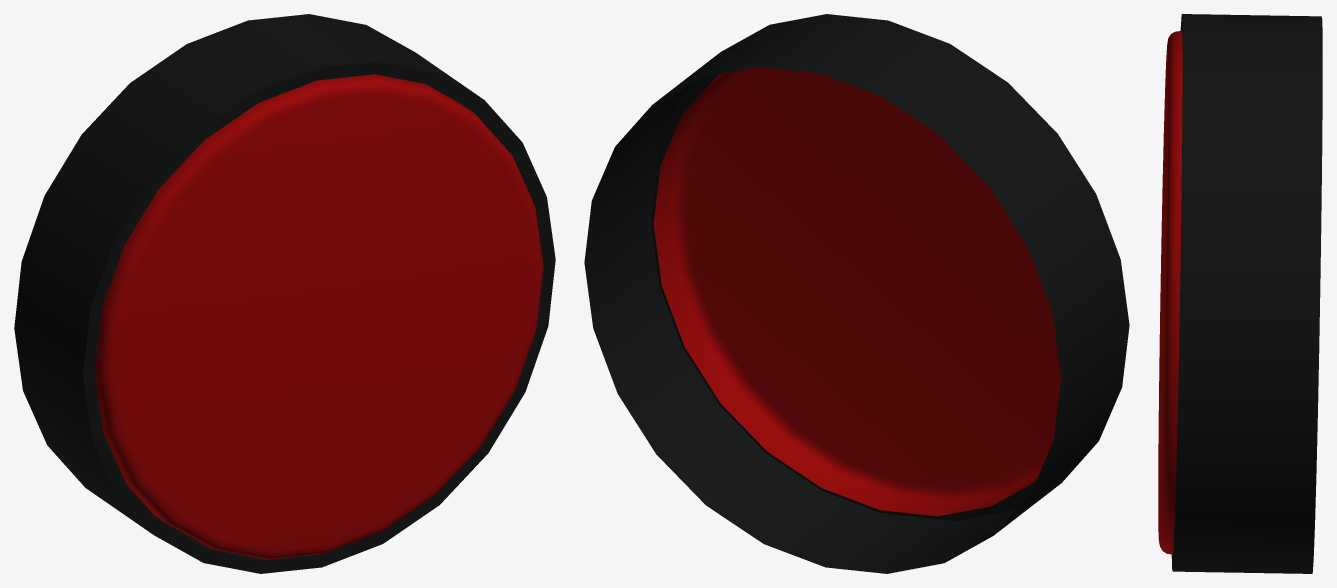
Rendered from Button_02.FBX.
3 renders of one model, left to right at view 1: azimuth 30°, elevation 25°; view 2: azimuth 150°, elevation 25°; view 3: azimuth 270°, elevation 25°, orthographic. The views are drawn at different scales.
Parts seen in each view (by area): view 1: Button_02, Button_02_Case; view 2: Button_02, Button_02_Case; view 3: Button_02_Case, Button_02.
Part boxes in pixels (left/top/right/bottom): Button_02: left=95, top=74, right=543, bottom=559; Button_02_Case: left=14, top=14, right=555, bottom=573; Button_02: left=653, top=67, right=1061, bottom=516; Button_02_Case: left=584, top=14, right=1129, bottom=573; Button_02_Case: left=1171, top=14, right=1322, bottom=573; Button_02: left=1158, top=31, right=1182, bottom=554.
Bounding box in the file's own units: 6.87 × 6.9 × 2.02.
